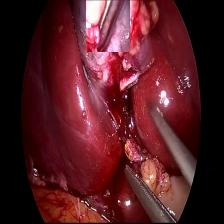Grasper: (122, 103, 197, 224), (86, 0, 130, 52)
